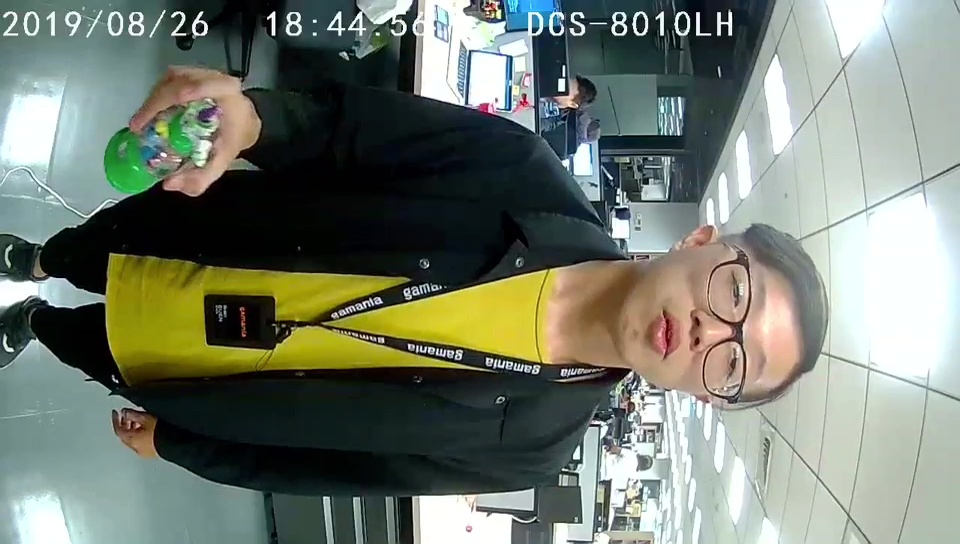buzz: (105, 98, 222, 198)
